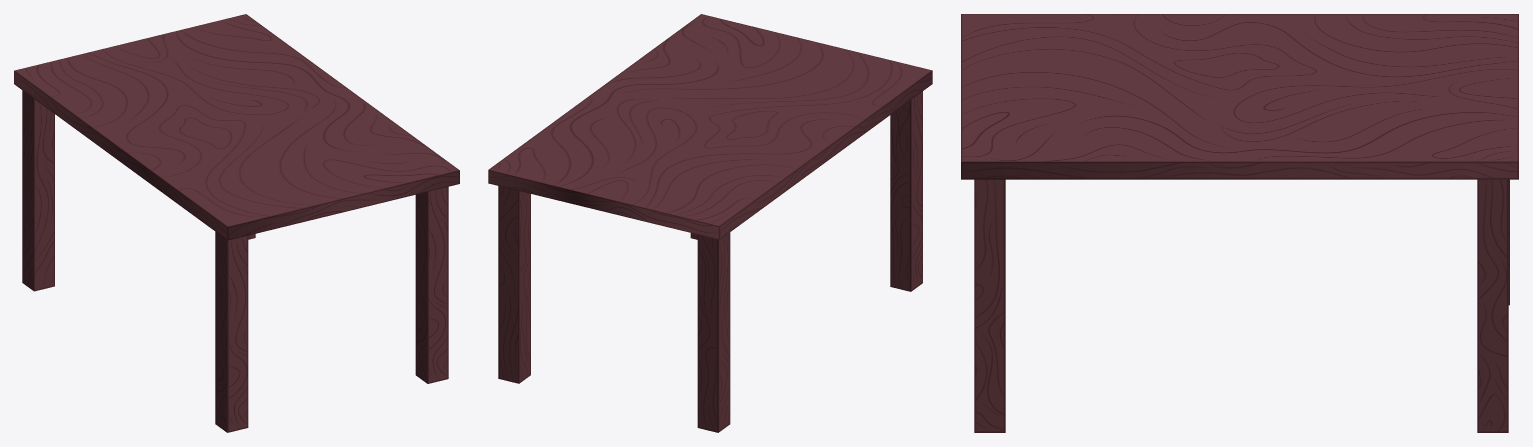
Rendered from mesafinal.fbx.
3 renders of one model, left to right at view 1: azimuth 30°, elevation 25°; view 2: azimuth 150°, elevation 25°; view 3: azimuth 270°, elevation 25°, orthographic. The views are drawn at different scales.
Parts seen in each view (by area): view 1: mesa; view 2: mesa; view 3: mesa.
Part boxes in pixels (<box>): mesa: <box>14,14,459,432</box>; mesa: <box>488,14,932,432</box>; mesa: <box>961,14,1518,432</box>.
Bounding box in the file's own units: 26.18 × 22.71 × 41.73.
Materials: 1 (1 with a texture image).
